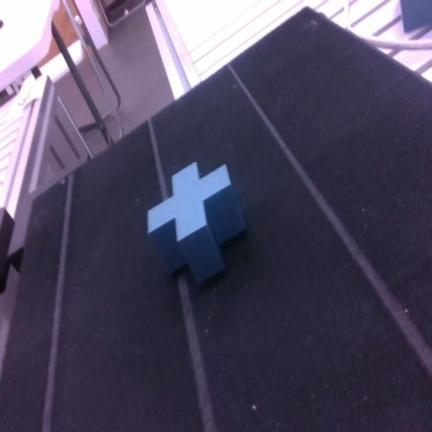cross: (148, 163, 245, 281)
